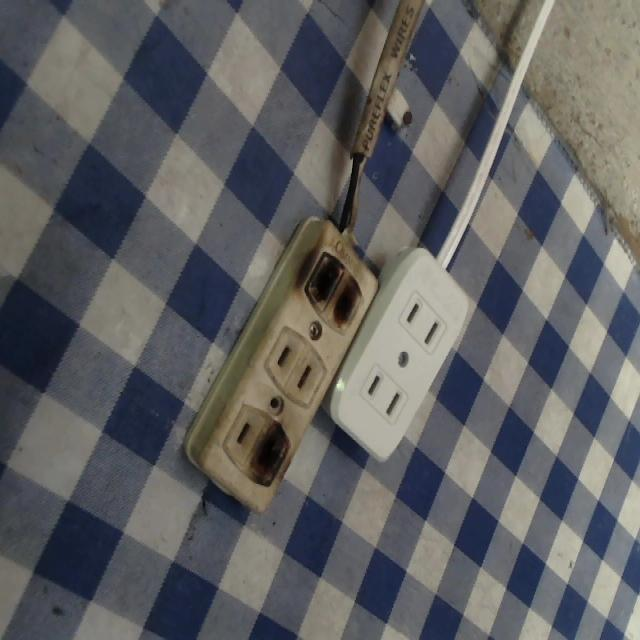-: (309, 248, 366, 329), (249, 418, 293, 493)
